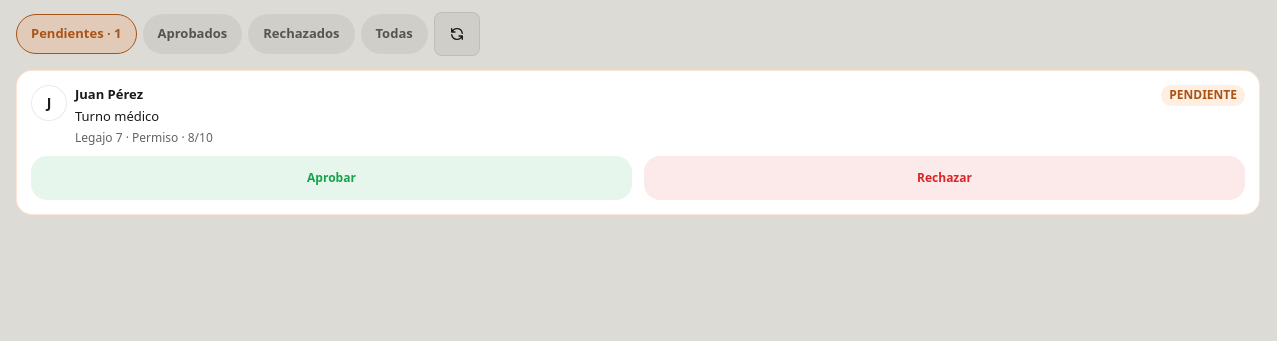
Test case: Si otra persona ya lo respondió, lo dice y no manda aviso al celular
Click the button with aria-label "Aprobar solicitud de Juan Pérez" at coordinates (332, 178), box [31,156,632,200]
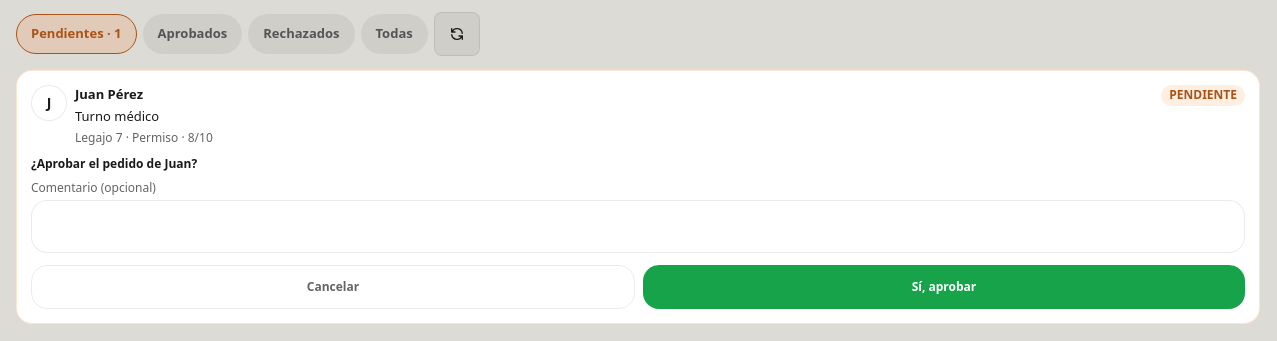
Click the button "Sí, aprobar" at coordinates (944, 287), box [643,265,1245,309]
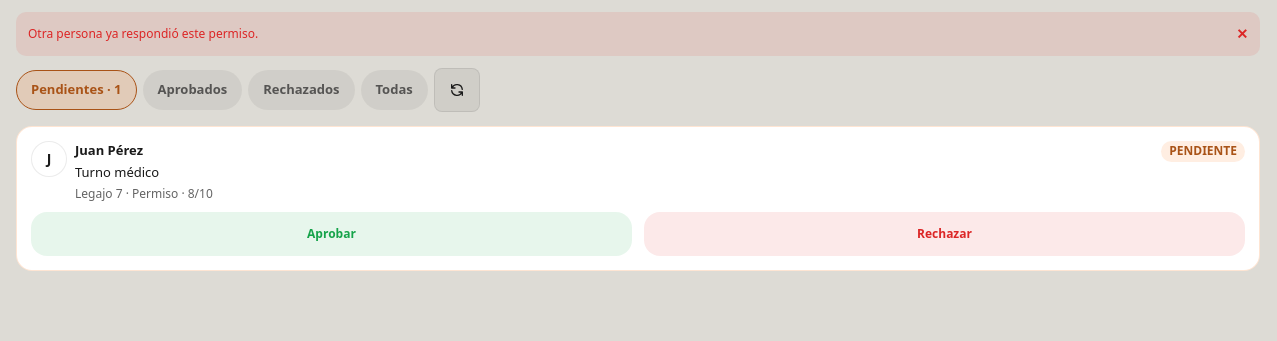
Check: the text "Otra persona ya respondió este permiso." is shown, box [28,26,258,42]
